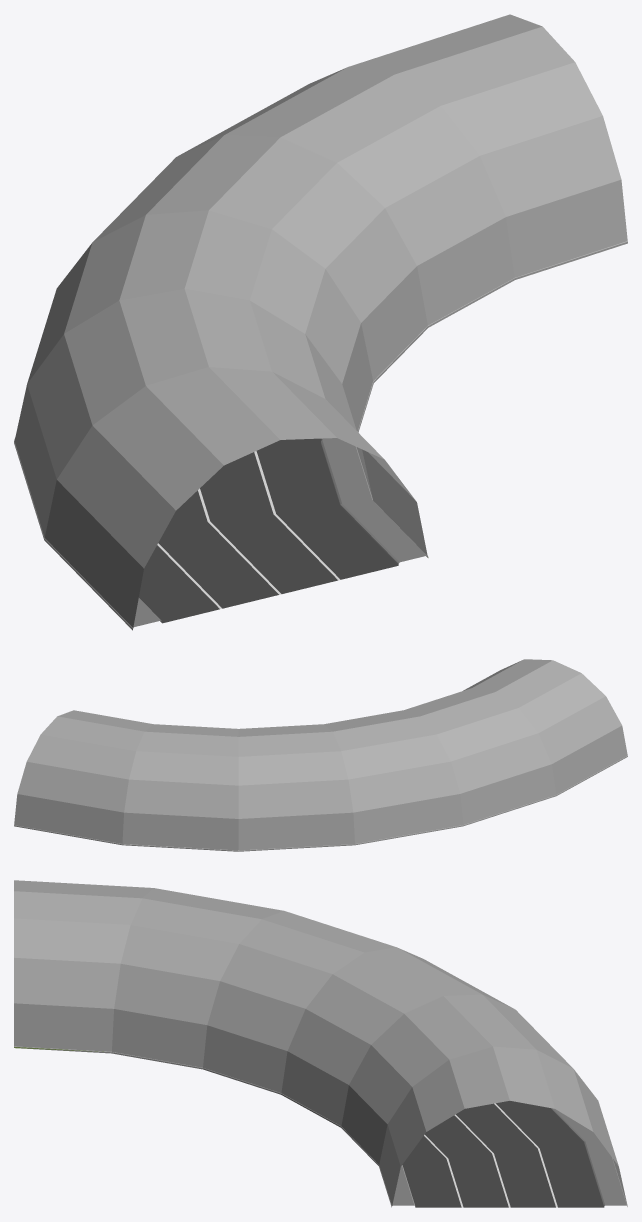
The model's file is wideHighwayMountainpassCurve.glb.
3 renders of one model, top to bottom at view 1: azimuth 30°, elevation 25°; view 2: azimuth 150°, elevation 25°; view 3: azimuth 270°, elevation 25°, orthographic. The views are drawn at different scales.
Visible parts, largest first — view 1: Tunnel_Curve_mesh; view 2: Tunnel_Curve_mesh; view 3: Tunnel_Curve_mesh.
Part boxes in pixels (left/top/right/bottom): Tunnel_Curve_mesh: left=14, top=14, right=627, bottom=630; Tunnel_Curve_mesh: left=14, top=659, right=627, bottom=851; Tunnel_Curve_mesh: left=14, top=880, right=627, bottom=1207.
Size of the model in its own units: 65 by 12.5 by 65.
Materials: 1 (1 with a texture image).
